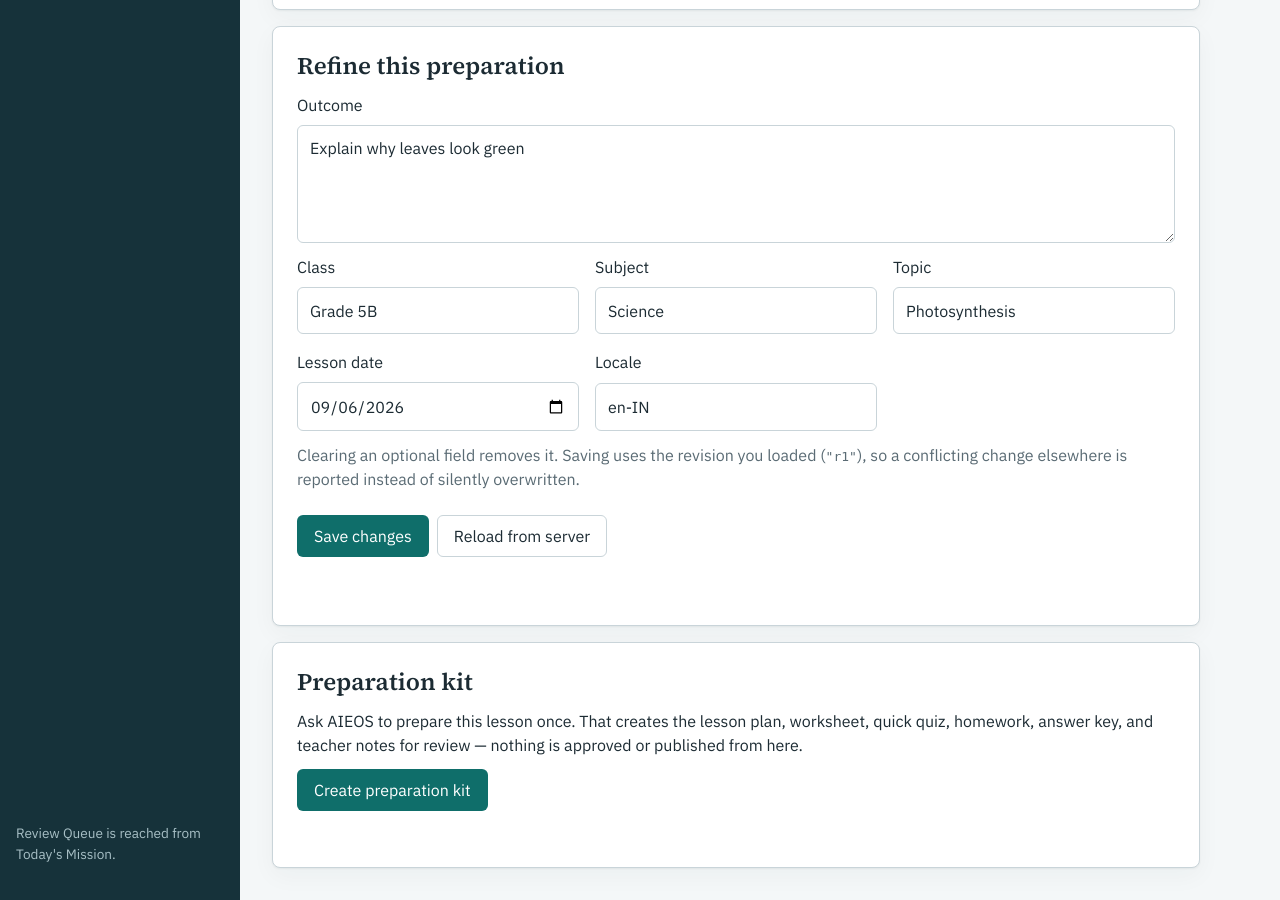
Test: G. Work refinement uses If-Match and Idempotency-Key › does not send a request when nothing changed
(page scrolled)
Expected: the heading "Refine this preparation" is shown, left=297, top=48, right=564, bottom=82
Click the button "Save changes".
click(363, 536)  # box left=297, top=515, right=429, bottom=557
(page scrolled)
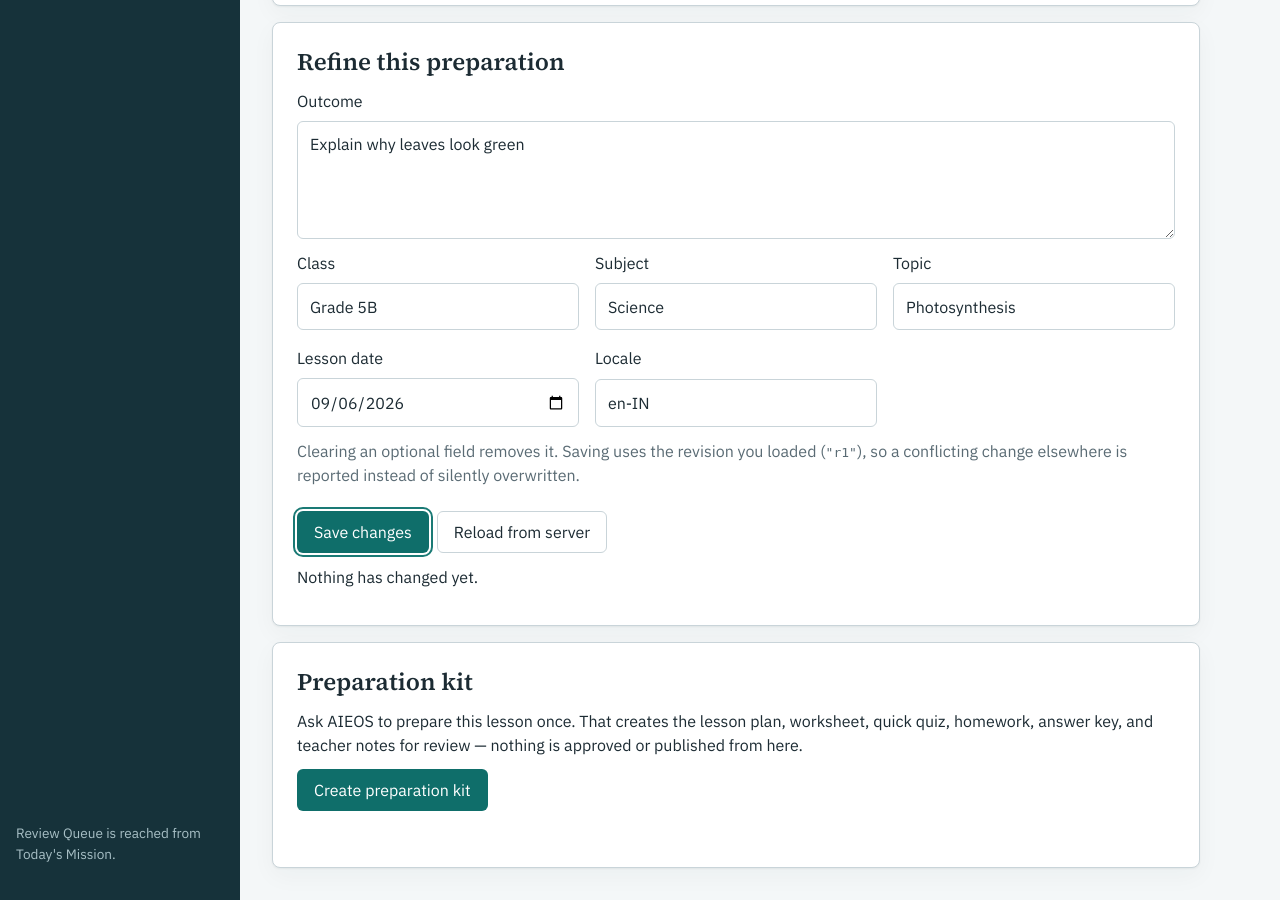
Expected: the text "Nothing has changed yet." is shown, left=297, top=567, right=478, bottom=587
